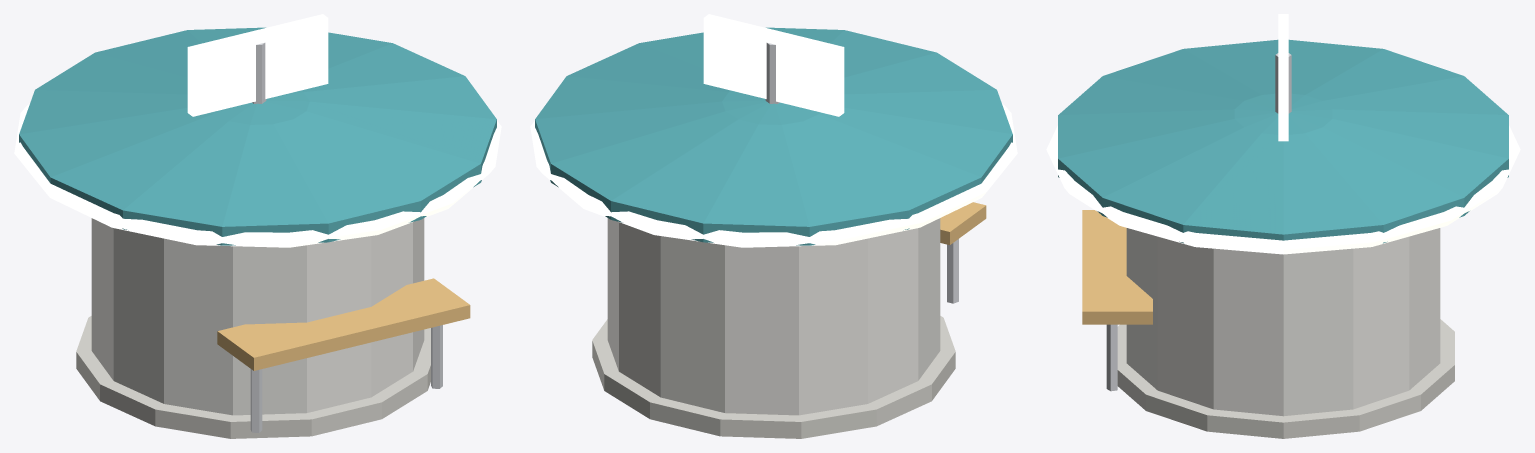
The model's file is arcology-towers-and-skyways-plaza-kiosk-8a9fae00__23267.glb.
3 renders of one model, left to right at view 1: azimuth 30°, elevation 25°; view 2: azimuth 150°, elevation 25°; view 3: azimuth 270°, elevation 25°, orthographic. The views are drawn at different scales.
Parts seen in each view (by area): view 1: plaza-kiosk; view 2: plaza-kiosk; view 3: plaza-kiosk.
Boxes of the visible parts, box(x1,y1,x2,y2) form: plaza-kiosk: box(14, 14, 501, 438); plaza-kiosk: box(530, 14, 1017, 438); plaza-kiosk: box(1046, 14, 1520, 438).
Bounding box in the file's own units: 4.72 × 3.5 × 4.72.
